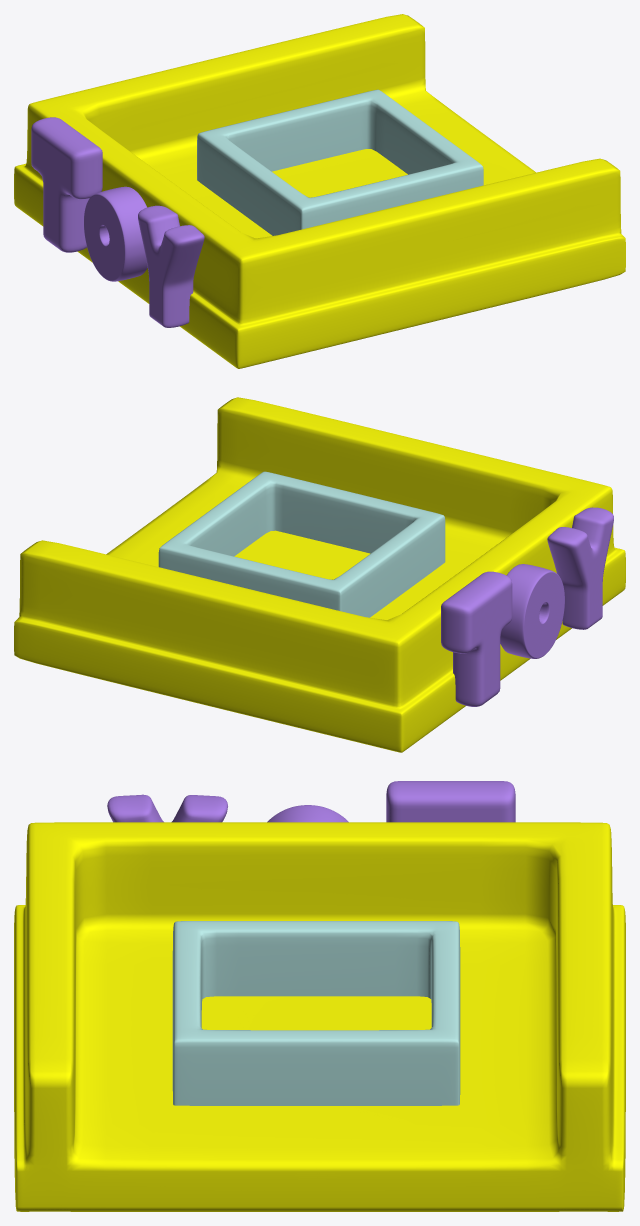
The picture shows the model from 3 angles, top to bottom: view 1: azimuth 30°, elevation 25°; view 2: azimuth 150°, elevation 25°; view 3: azimuth 270°, elevation 25°; orthographic projection. The views are drawn at different scales.
Parts seen in each view (by area): view 1: polySurface1333; view 2: polySurface1333; view 3: polySurface1333.
Part boxes in pixels (left/top/right/bottom): polySurface1333: left=14, top=14, right=625, bottom=368; polySurface1333: left=14, top=397, right=625, bottom=752; polySurface1333: left=14, top=781, right=625, bottom=1211.
Size of the model in its own units: 1.06 by 0.2986 by 0.9997.
